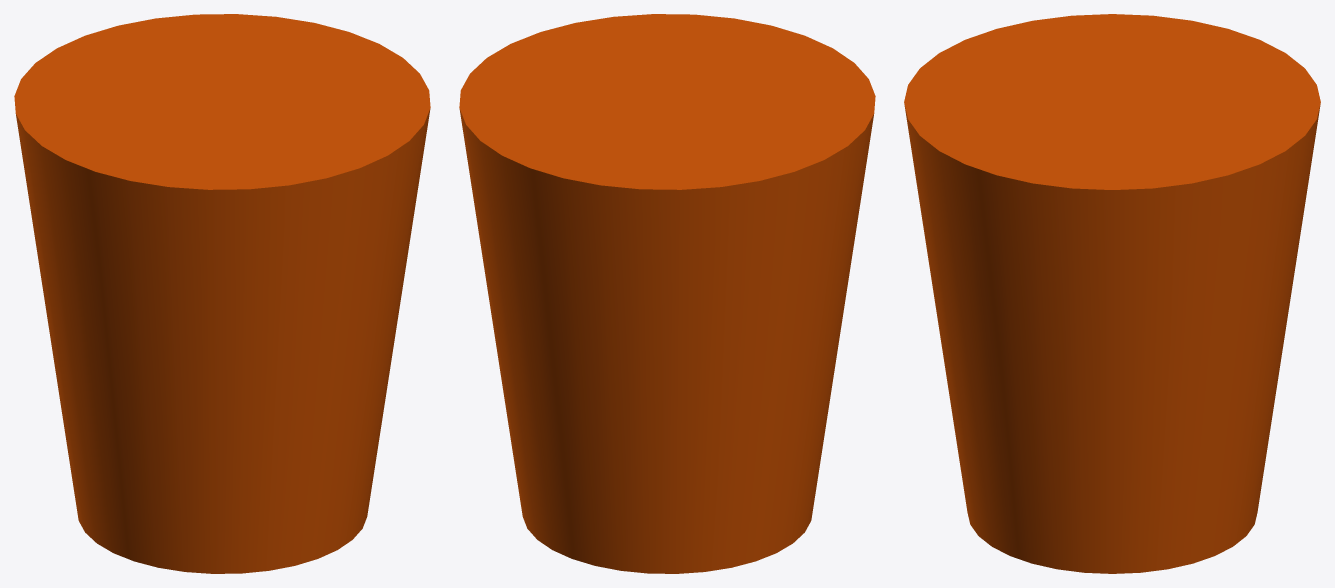
Rendered from mango-lassi.glb.
3 views of the same model, side by side, from view 1: azimuth 30°, elevation 25°; view 2: azimuth 150°, elevation 25°; view 3: azimuth 270°, elevation 25° (orthographic).
Bounding box in the file's own units: 0.92 × 1 × 0.92.
